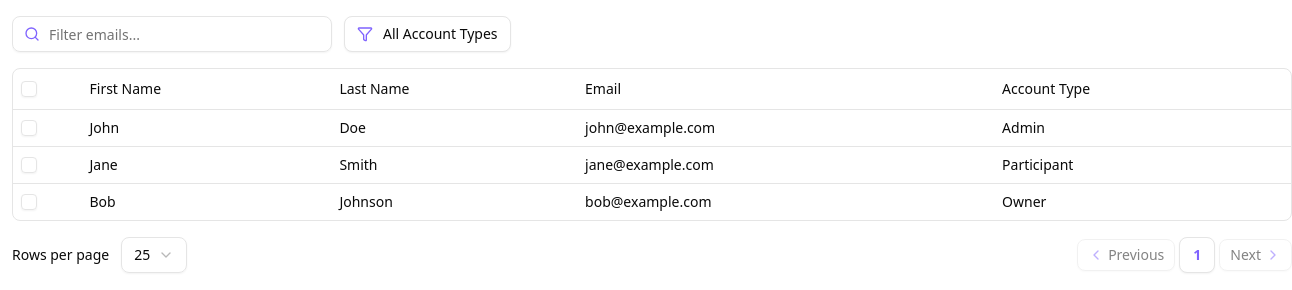
ManageAccountsDataTable › search and filter › shows all four filter options in the dropdown
This screenshot has width=1292, height=290.
Click the button "All Account Types": (427, 34) [344,16,510,52]
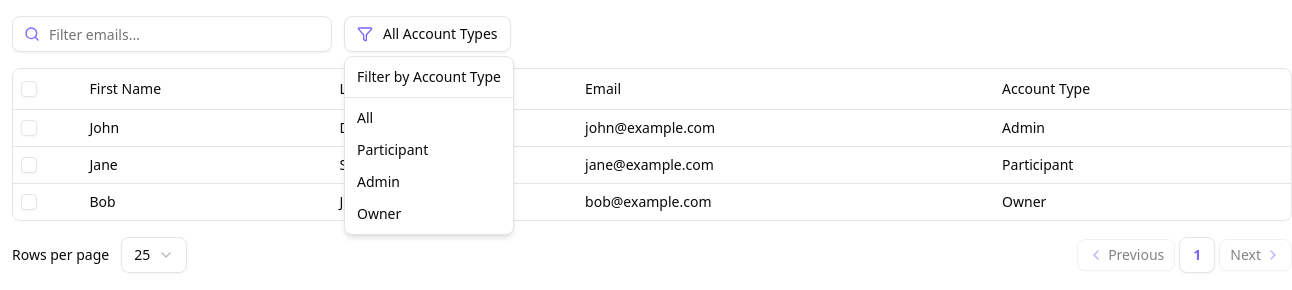
Check: the menu item "All" is shown, box [357,108,373,127]
Check: the menu item "Admin" is shown, box [357,172,400,191]
Check: the menu item "Participant" is shown, box [357,140,428,159]
